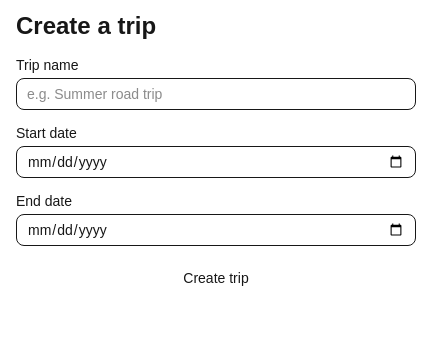
Scenario: CreateTripPageView — form validation: name required › shows name required error when submitted without a name
Click the button "Create trip": coordinates (216, 278) [16,262,416,294]
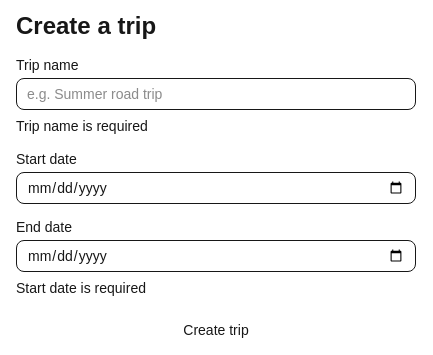
Expected: the text "Trip name is required" is shown, [16,118,148,134]
